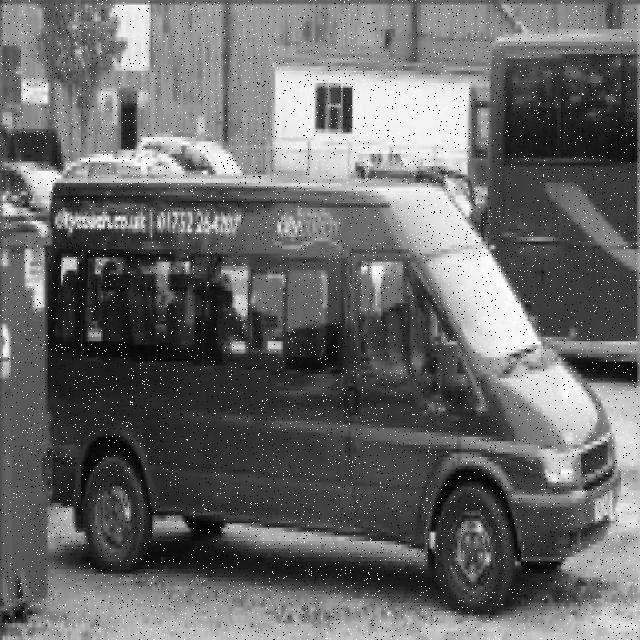Van: (45, 176, 622, 618)
